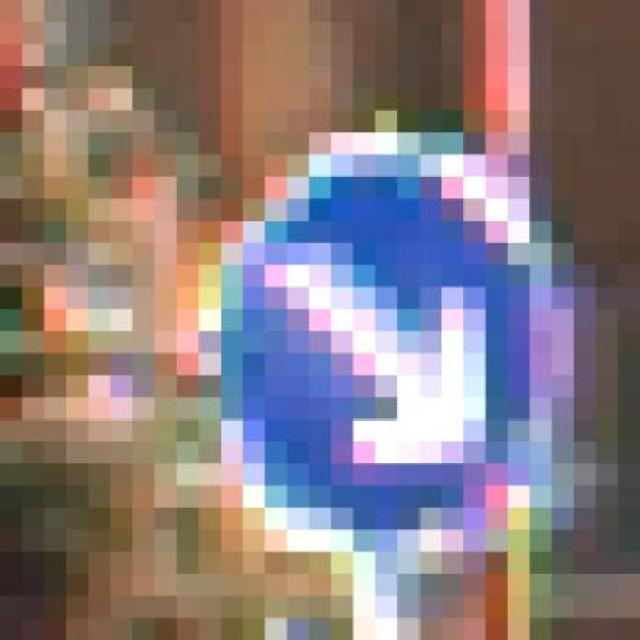Keep-Right: (155, 111, 596, 574)
